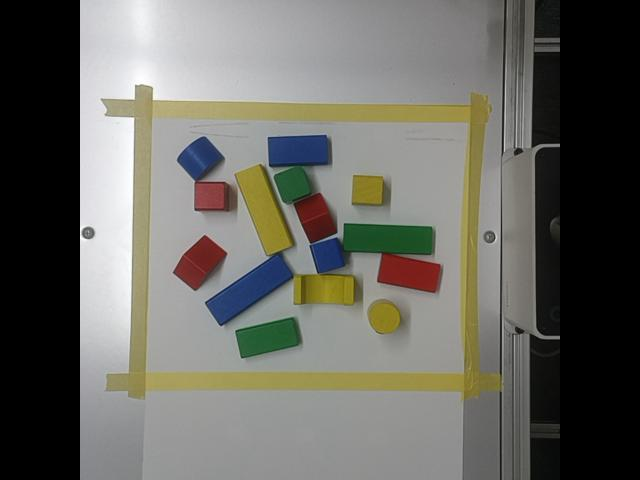blue_cube: (310, 237, 345, 272)
blue_longrect: (205, 253, 292, 325)
blue_rect: (268, 135, 329, 166)
cylinder: (368, 299, 401, 333)
green_cube: (274, 166, 312, 203)
green_longrect: (343, 223, 433, 254)
green_rect: (235, 317, 300, 357)
half_cylinder: (177, 136, 223, 180)
red_cube: (194, 180, 228, 210)
red_rect: (377, 253, 441, 292)
triangle: (174, 235, 226, 289), (294, 193, 336, 242)
yellow_archrect: (294, 275, 355, 304)
yellow_cube: (352, 175, 383, 205)
yellow_longrect: (235, 164, 293, 254)
